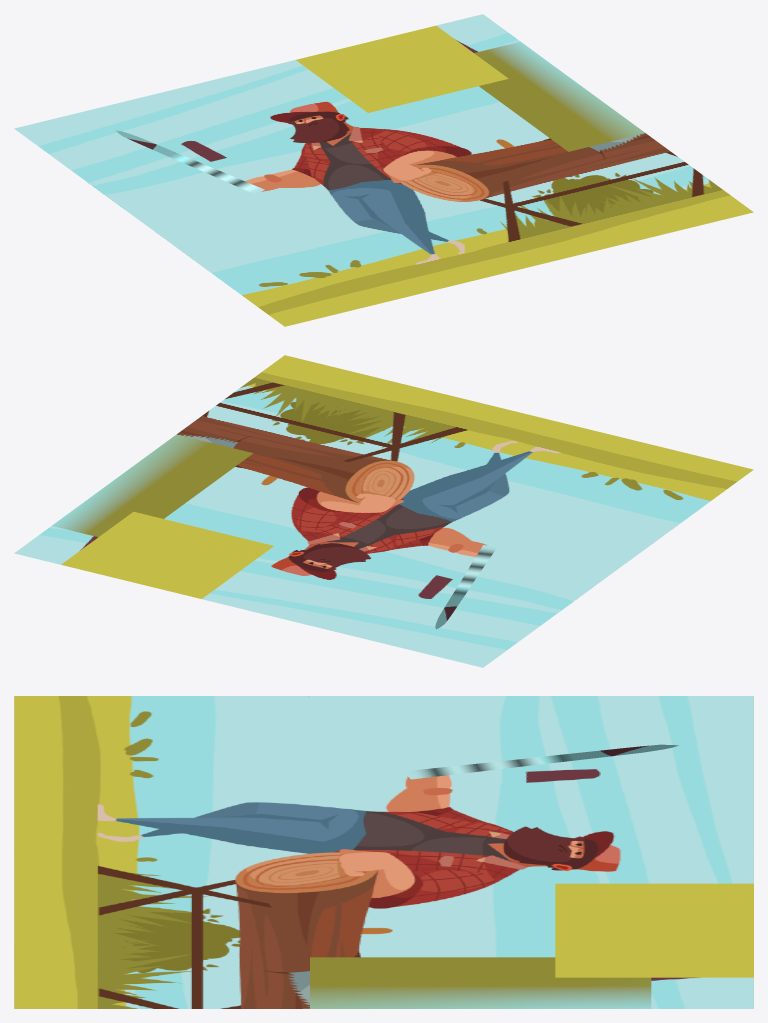
The picture shows the model from 3 angles, top to bottom: view 1: azimuth 30°, elevation 25°; view 2: azimuth 150°, elevation 25°; view 3: azimuth 270°, elevation 25°; orthographic projection. The views are drawn at different scales.
Parts seen in each view (by area): view 1: Background, Helmet, Sword; view 2: Background, Helmet, Sword; view 3: Background, Helmet, Sword.
Part boxes in pixels (x1,y1,x2,y2): Background: [14, 14, 753, 326]; Helmet: [87, 124, 361, 209]; Sword: [116, 130, 264, 194]; Background: [14, 355, 753, 667]; Helmet: [319, 528, 593, 614]; Sword: [435, 545, 497, 629]; Background: [14, 696, 753, 1008]; Helmet: [450, 696, 555, 854]; Sword: [404, 744, 678, 779].
Size of the model in its own units: 2400 by 1.14 by 2400.
